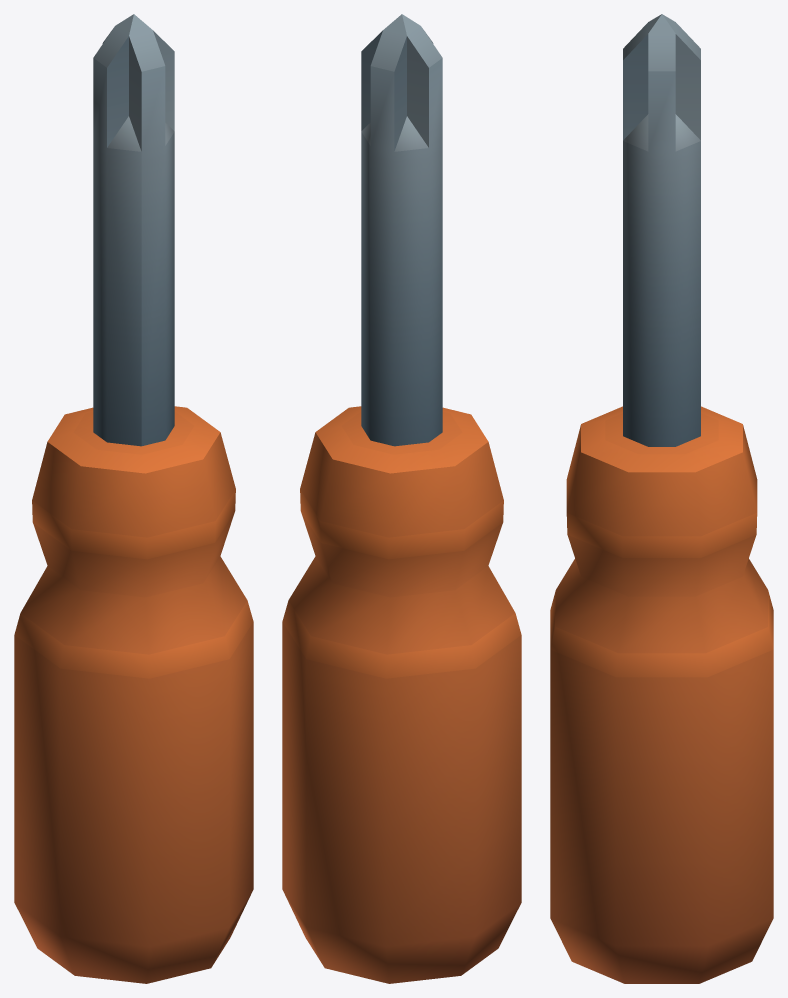
Rendered from screwdriver_B_short_color.glb.
3 views of the same model, side by side, from view 1: azimuth 30°, elevation 25°; view 2: azimuth 150°, elevation 25°; view 3: azimuth 270°, elevation 25° (orthographic).
Visible parts, largest first — view 1: screwdriver_B_short_color; view 2: screwdriver_B_short_color; view 3: screwdriver_B_short_color.
Boxes of the visible parts, x1=… form: screwdriver_B_short_color: x1=14, y1=14, x2=253, y2=983; screwdriver_B_short_color: x1=282, y1=14, x2=521, y2=983; screwdriver_B_short_color: x1=550, y1=14, x2=773, y2=983.
Bounding box in the file's own units: 0.1513 × 0.7136 × 0.1513.
1 material, 1 textured.
